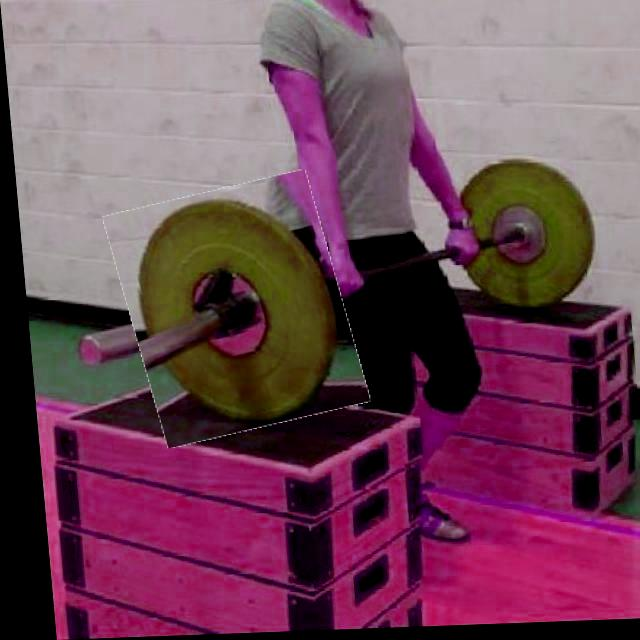barbell: (108, 181, 355, 442)
